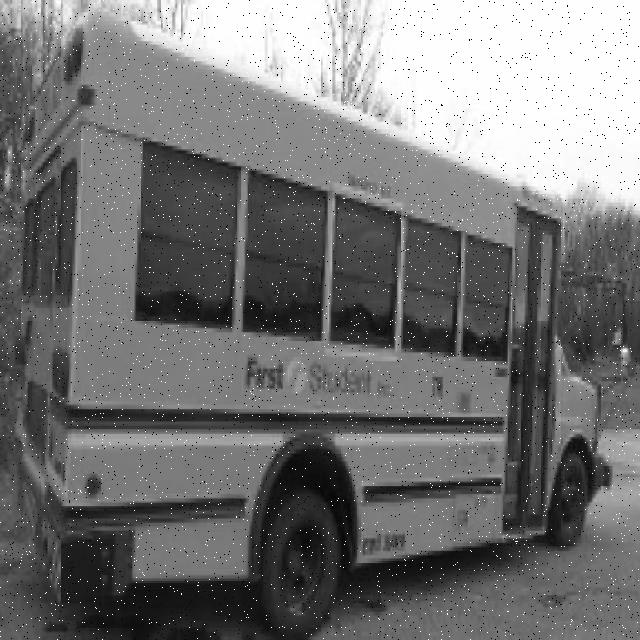Bus- Small: (9, 9, 640, 640)
